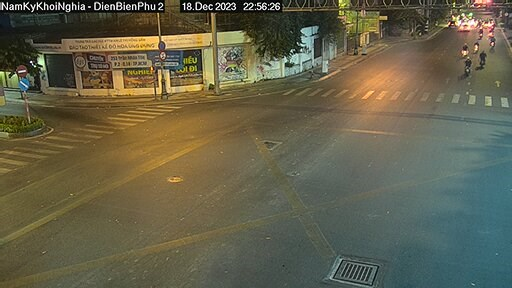motorbike: (462, 54, 475, 76), (476, 52, 488, 66), (472, 38, 481, 54), (462, 42, 470, 56), (489, 35, 495, 44)
